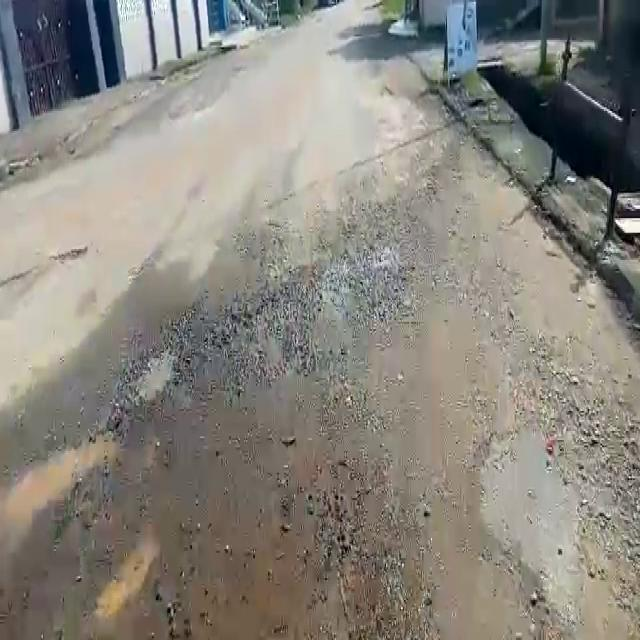Pothole: (136, 338, 176, 403)
